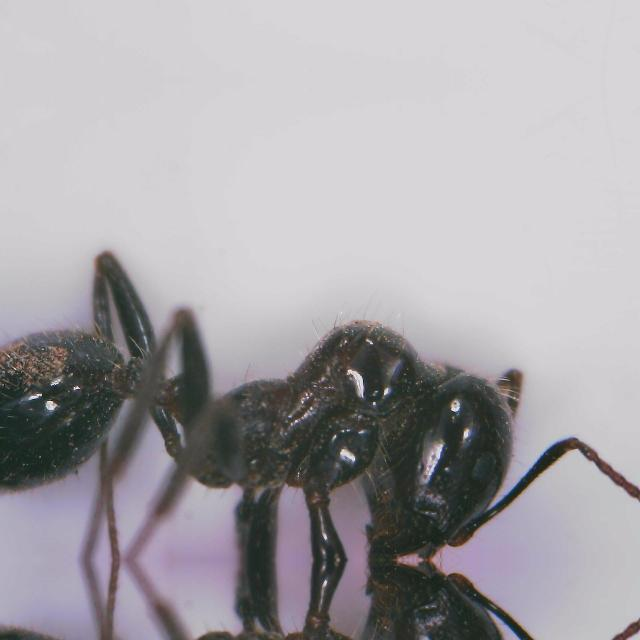Messor: (0, 236, 576, 560), (0, 560, 576, 640)
